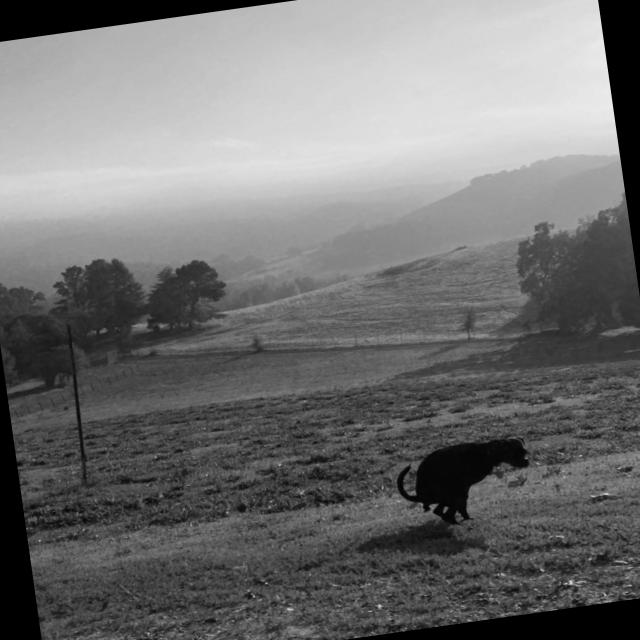squatting: (387, 426, 547, 536)
